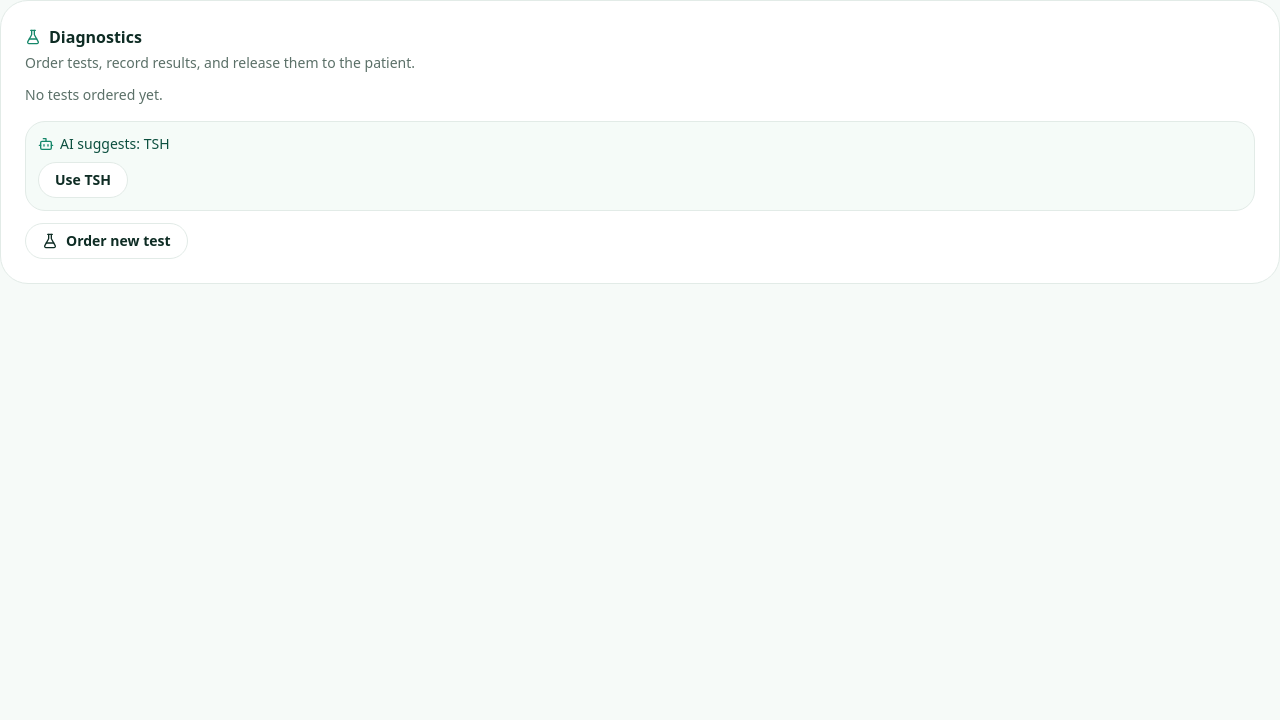
Test case: DiagnosticCard › prefills the test-type field and opens the form on 'Use'
What coordinates should you click on to do the following:
click the button "Use TSH"
I would click on:
 (83, 180)
Its box is [38,162,128,198].
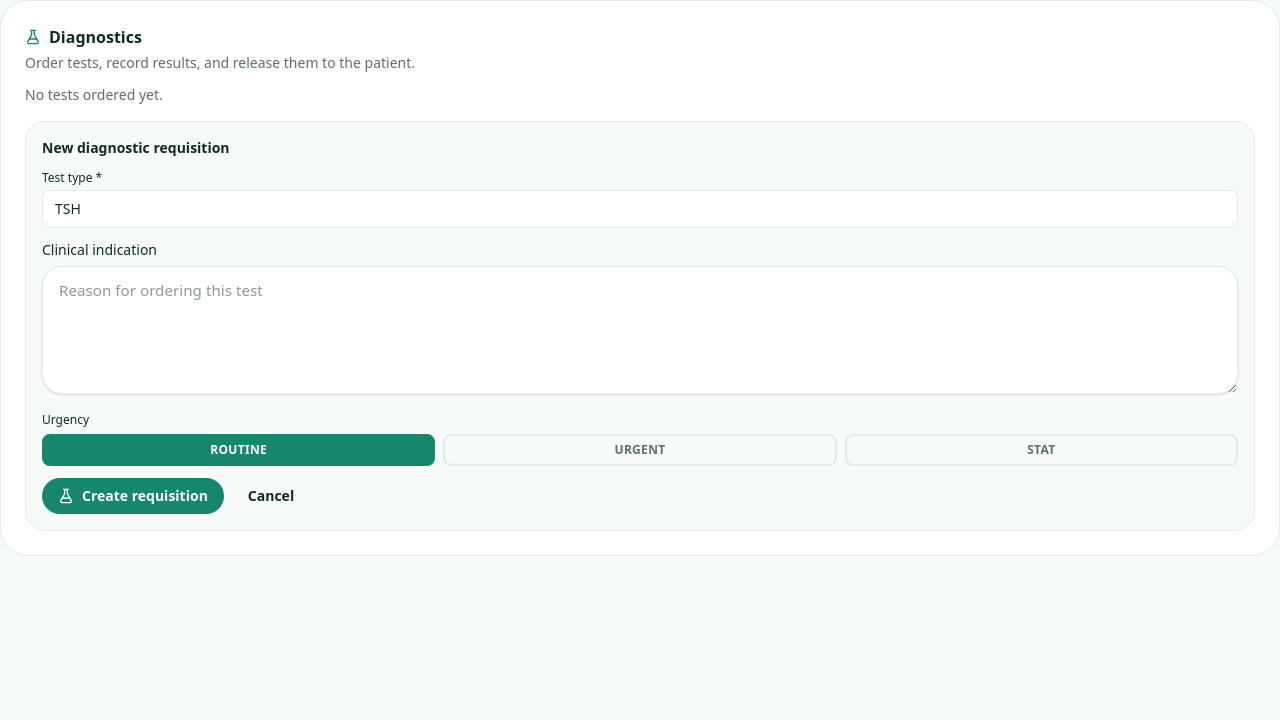
Check: the field with placeholder "e.g. Complete Blood Count, Chest X-Ray" holds "TSH", box [42,190,1238,228]
